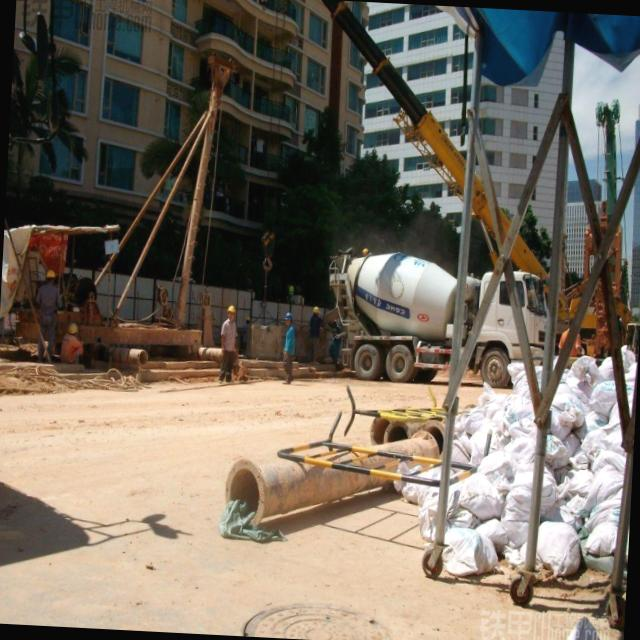no-vest: (220, 320, 239, 358), (282, 325, 297, 362)
